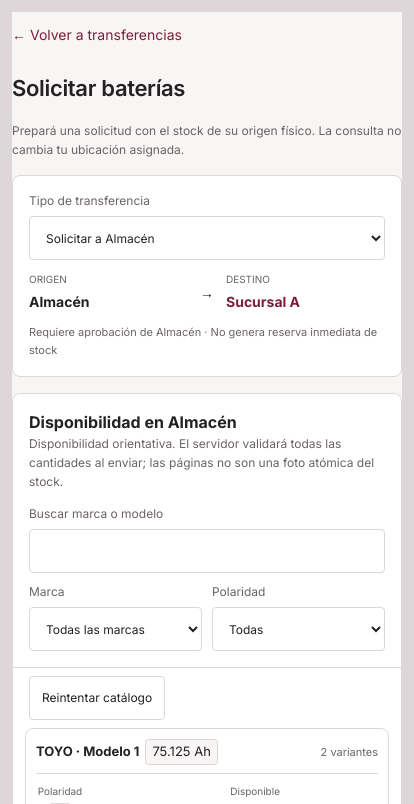
F3 grouped catalog and compact route › retains unavailable variants without inventing absent or filtered polarities or merging identical labels
Select "Izquierda [L]" in the dropdown labelled "Polaridad" at x=298, y=629, box [212,607,385,651]
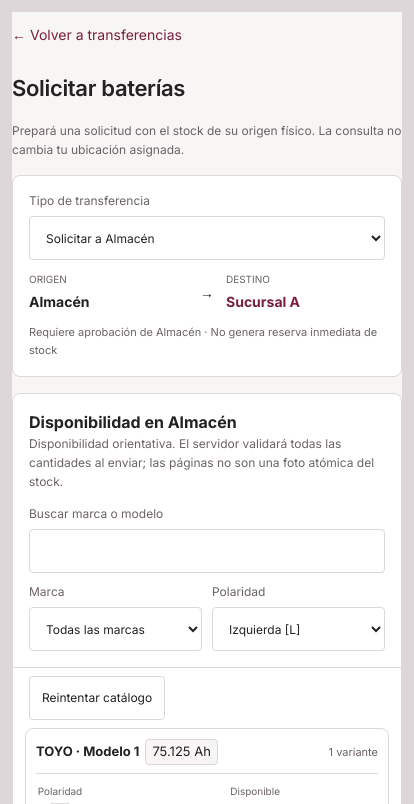
Expected: the text "1 variante" is shown 2 times
